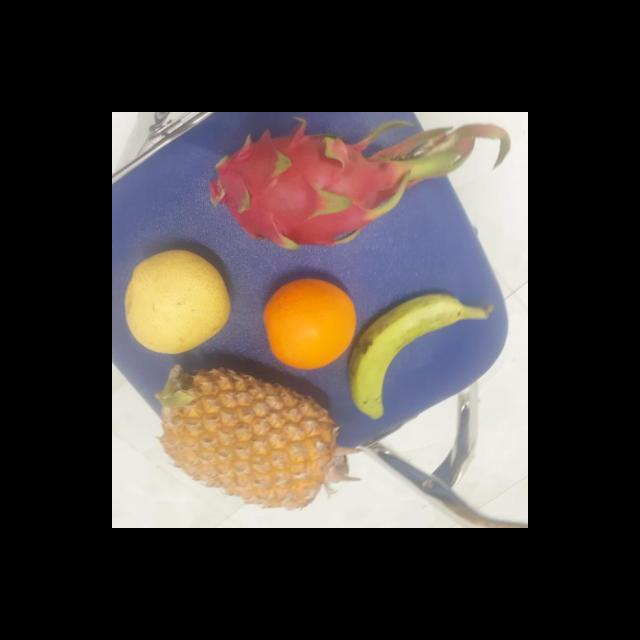banana: (342, 296, 466, 418)
guava: (121, 248, 230, 354)
pear: (260, 278, 360, 369)
pineapple: (157, 358, 335, 506)
pitaya: (198, 130, 410, 250)
